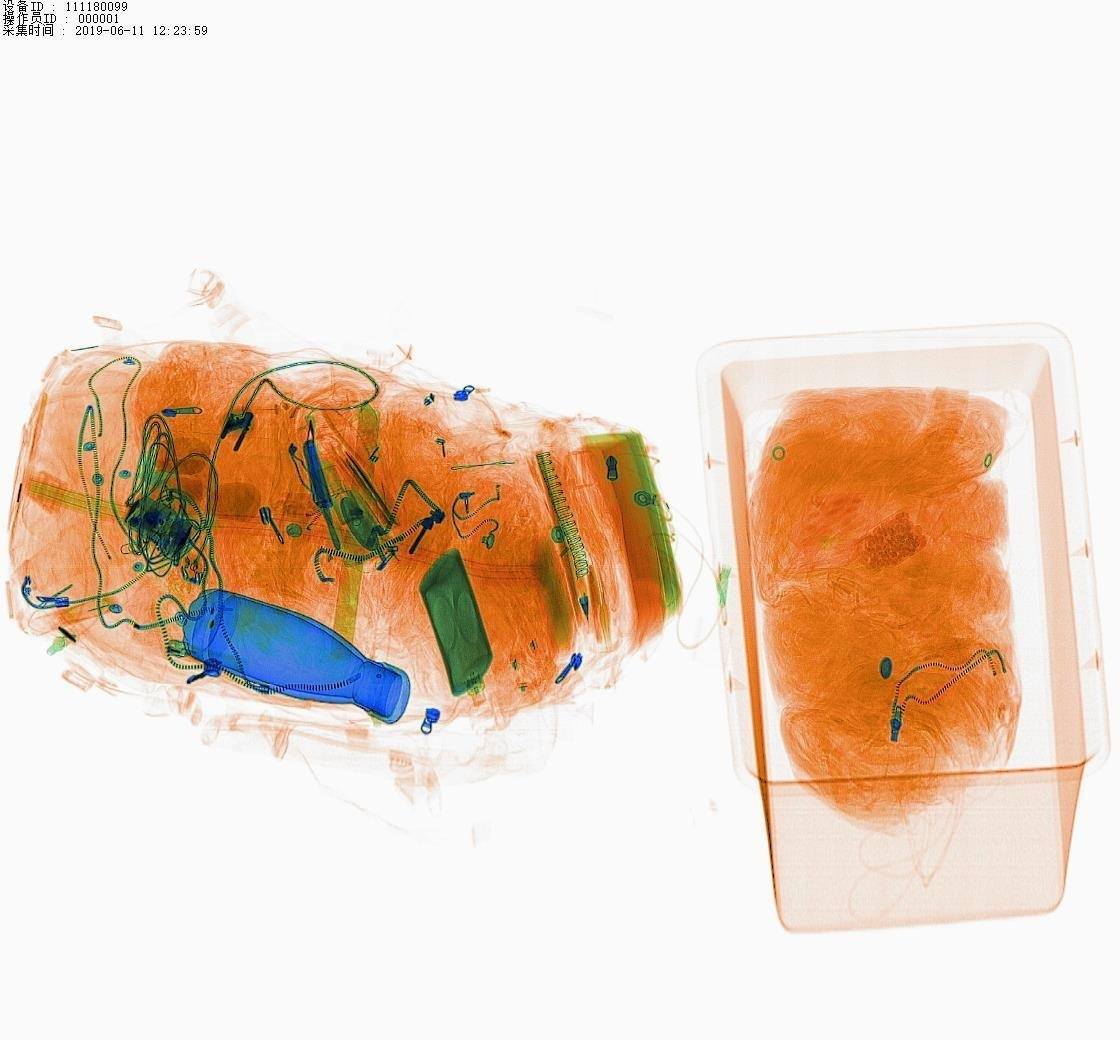NonmetallicFire: (143, 637, 279, 693)
